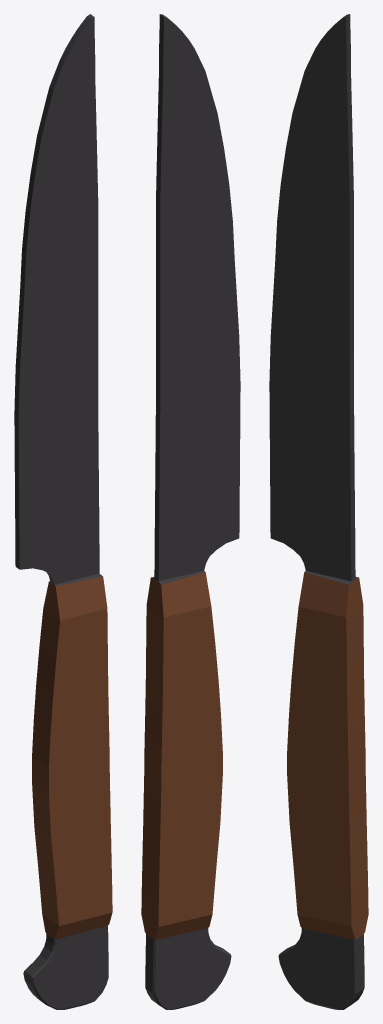
Rendered from knife_bullet.fbx.
3 renders of one model, left to right at view 1: azimuth 30°, elevation 25°; view 2: azimuth 210°, elevation 25°; view 3: azimuth 330°, elevation 25°, orthographic.
Visible parts, largest first — view 1: Cube.002; view 2: Cube.002; view 3: Cube.002.
Boxes of the visible parts, box(x1,y1,x2,y2) form: Cube.002: box(14, 14, 112, 1009); Cube.002: box(141, 14, 240, 1009); Cube.002: box(269, 14, 368, 1009).
Bounding box in the file's own units: 10.33 × 110 × 3.42.
